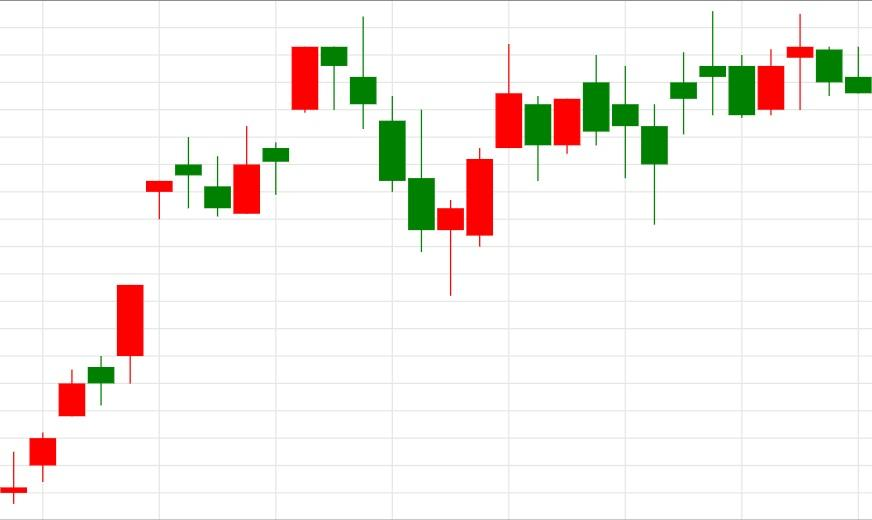three_black_crows_fall: (204, 15, 407, 217)
